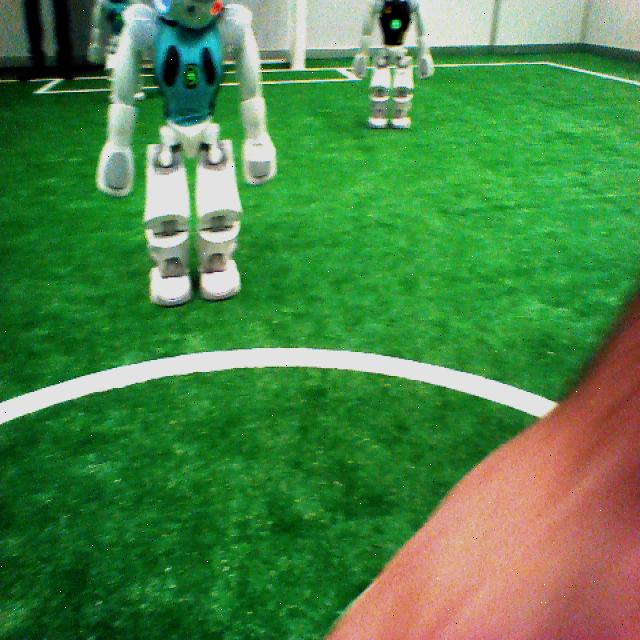goalpost: (293, 2, 309, 66)
